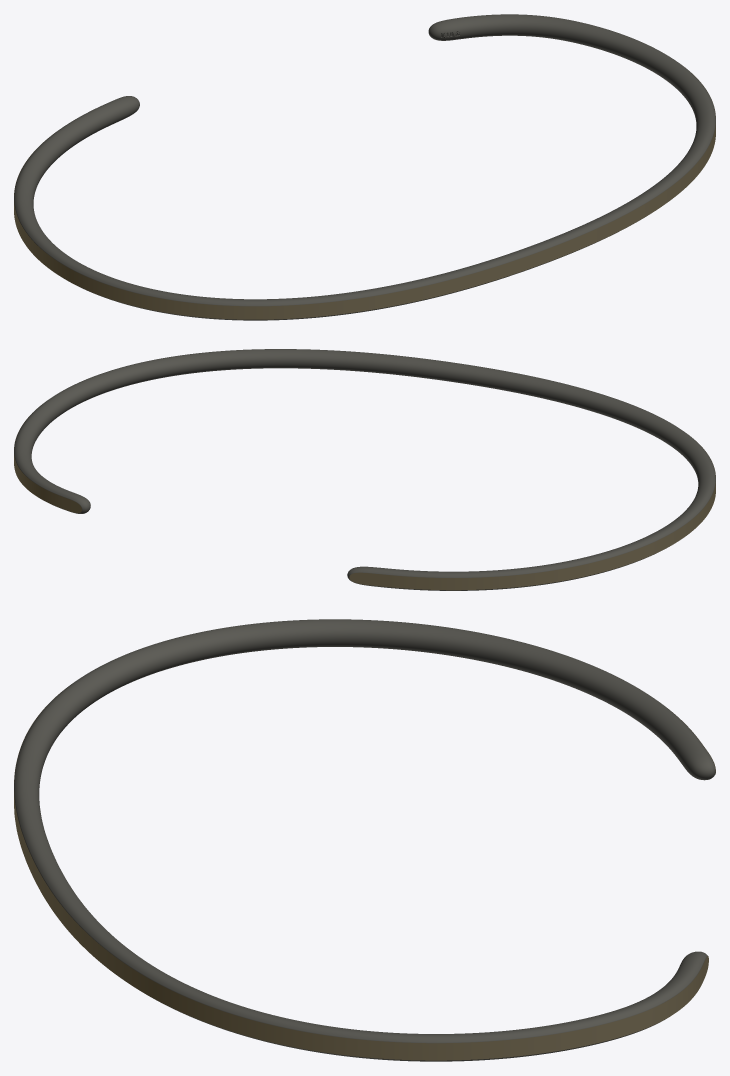
Rendered from light-brack.glb.
3 renders of one model, top to bottom at view 1: azimuth 30°, elevation 25°; view 2: azimuth 150°, elevation 25°; view 3: azimuth 270°, elevation 25°, orthographic. The views are drawn at different scales.
Parts seen in each view (by area): view 1: lightbody.004, lightomote.004; view 2: lightbody.004, lightomote.004; view 3: lightbody.004, lightomote.004.
Part boxes in pixels (x1,y1,x2,y2): lightbody.004: (14, 14, 715, 320); lightomote.004: (14, 67, 715, 319); lightbody.004: (14, 349, 715, 590); lightomote.004: (14, 406, 715, 590); lightbody.004: (14, 619, 715, 1061); lightomote.004: (14, 689, 715, 1060).
Bounding box in the file's own units: 3.4 × 0.0938 × 2.39.
Materials: 2 (2 with a texture image).
